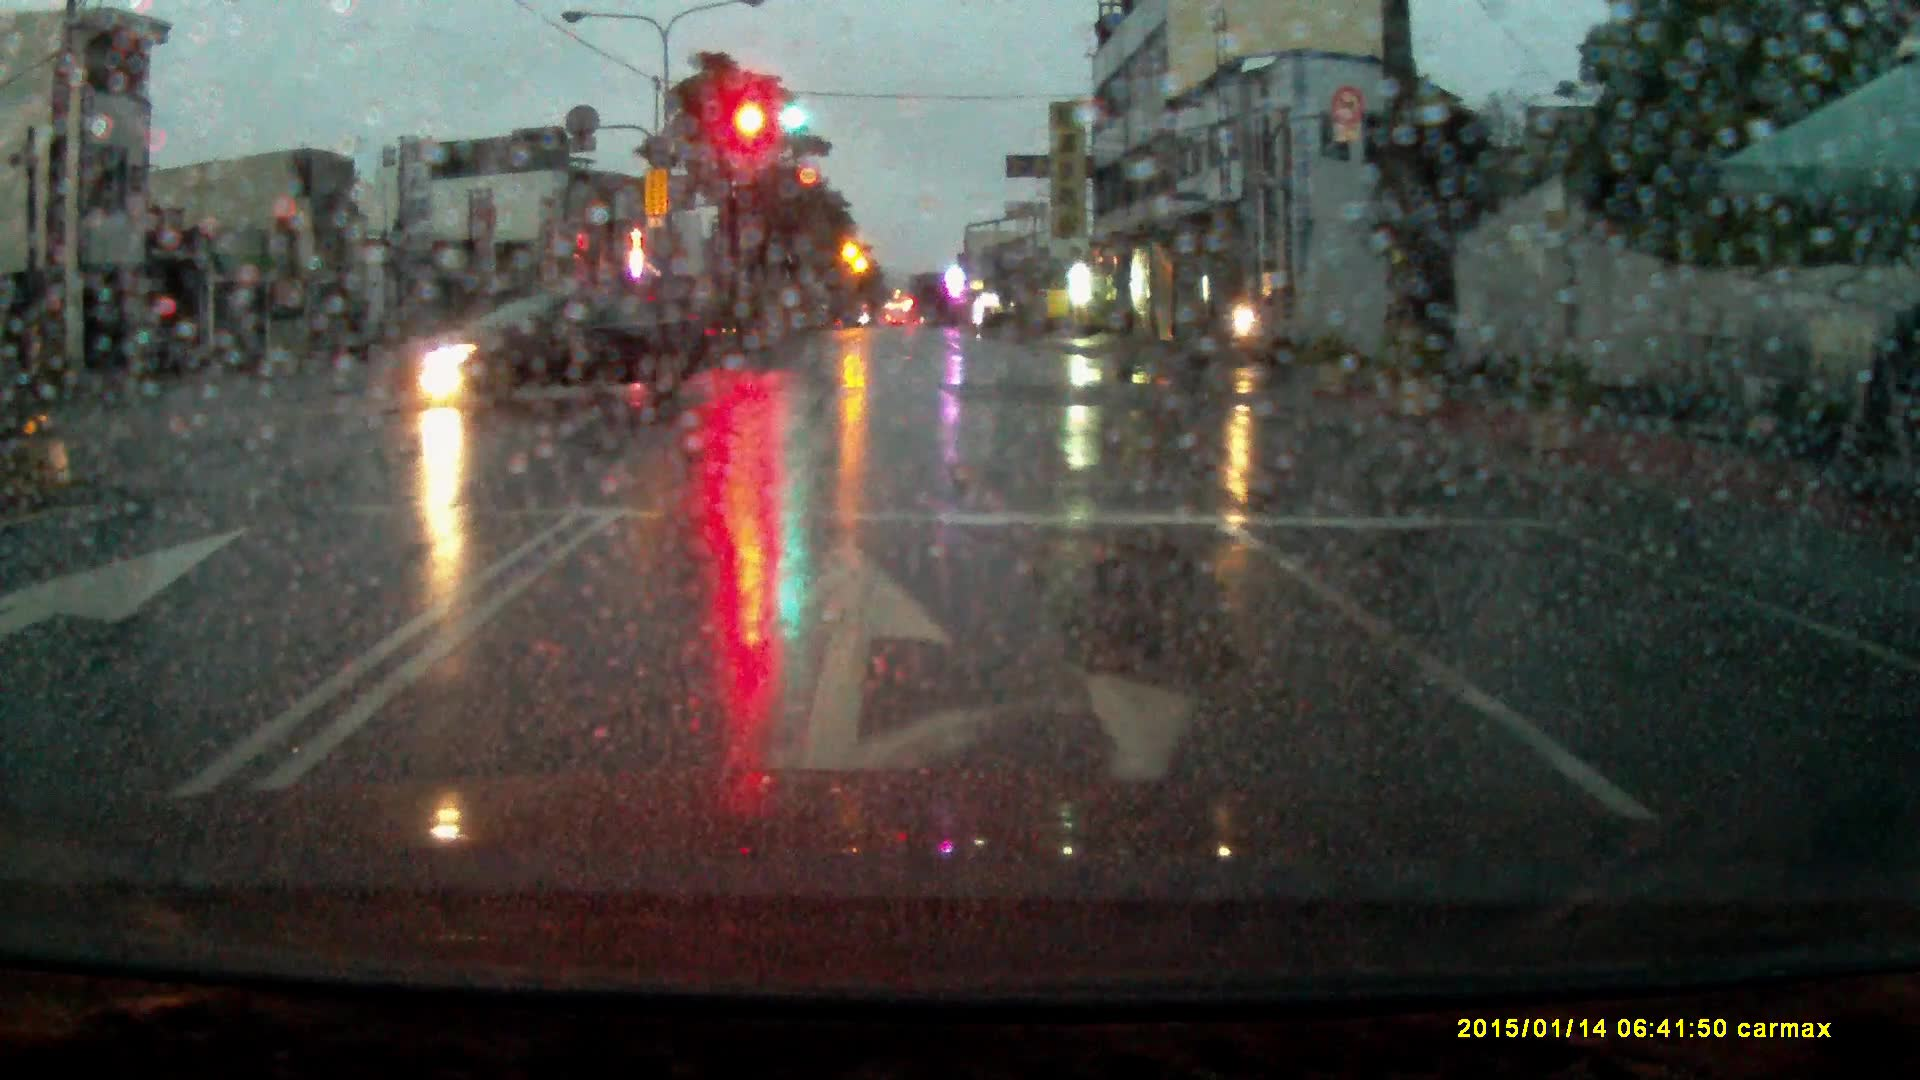rider: (1211, 278, 1295, 373)
vehicle: (383, 289, 714, 408)
